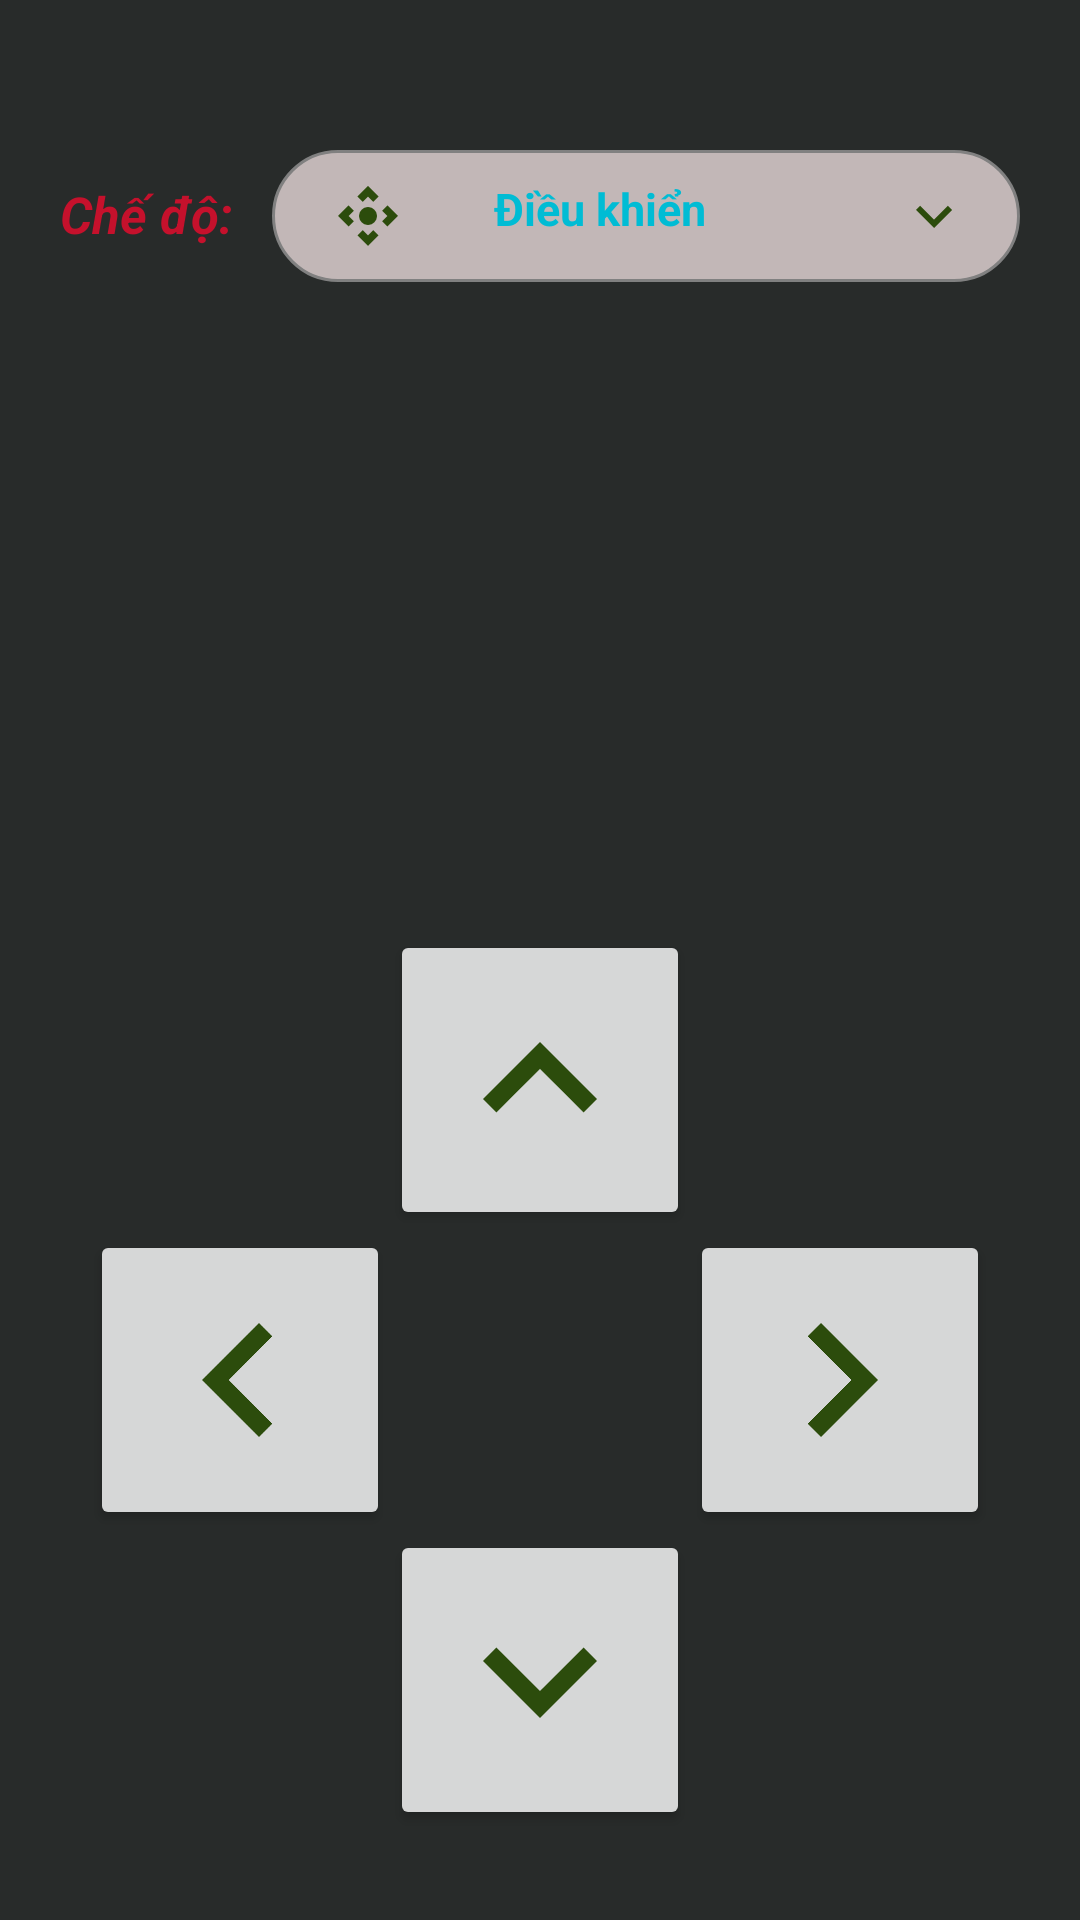

Icons on this 1080w x 1920h Android screen, each with its box as (x1, y1, x2, y2):
control: (338, 186, 398, 246)
keyboard arrow down: (916, 206, 952, 228), (402, 1548, 678, 1812)
keyboard arrow left: (102, 1248, 378, 1512)
keyboard arrow right: (702, 1248, 978, 1512)
keyboard arrow up: (402, 948, 678, 1212)
